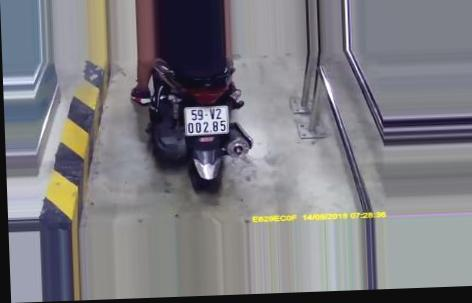License_Plate: (180, 101, 234, 141)
